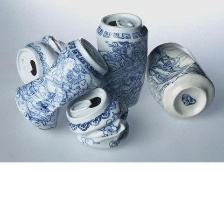can: (12, 35, 110, 133), (142, 40, 217, 120), (95, 9, 150, 109), (69, 86, 132, 150), (14, 32, 67, 86)
